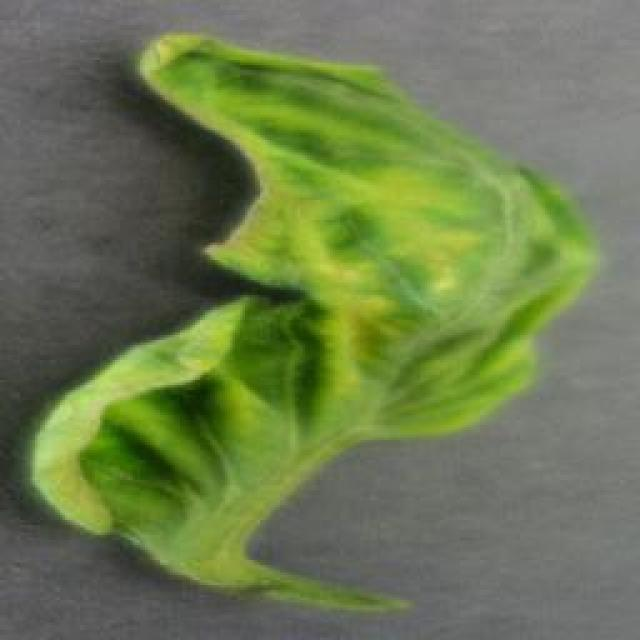Tom_Yellow_Leaf_Curl_Virus: (134, 42, 494, 472)
